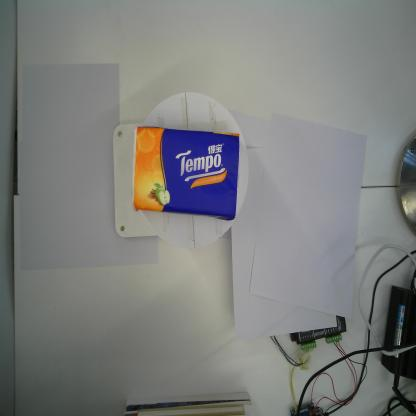Tissue: (132, 123, 241, 225)
